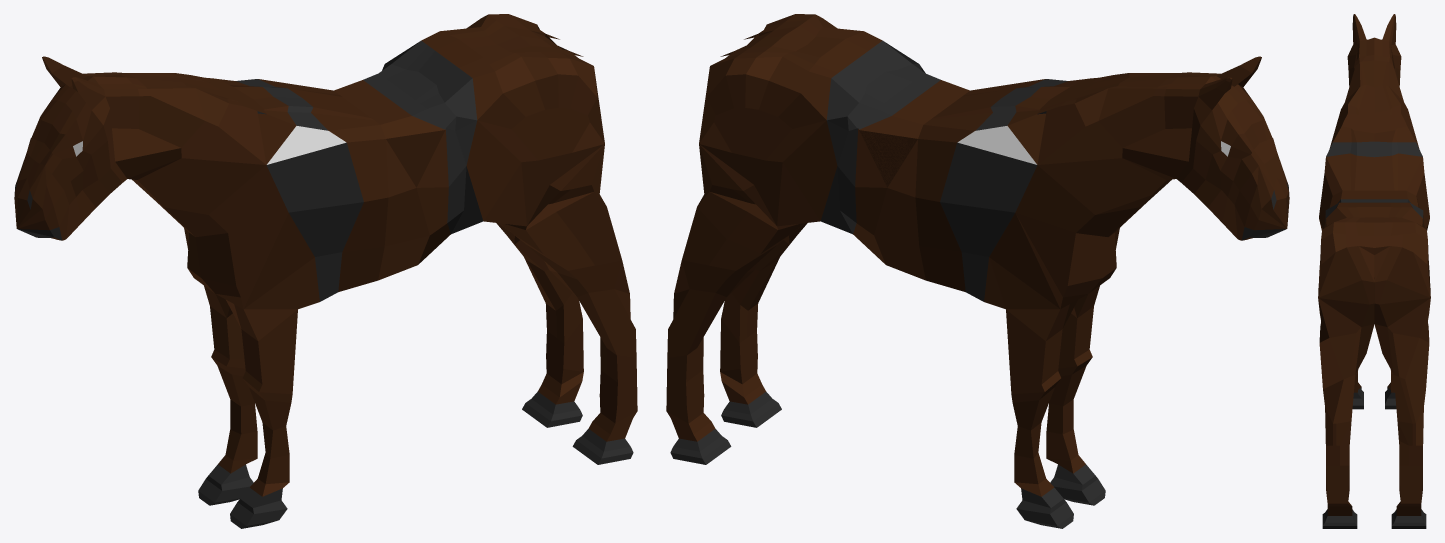
Rendered from aatt.fbx.
3 views of the same model, side by side, from view 1: azimuth 30°, elevation 25°; view 2: azimuth 150°, elevation 25°; view 3: azimuth 270°, elevation 25° (orthographic). The views are drawn at different scales.
Parts seen in each view (by area): view 1: Plane.014; view 2: Plane.014; view 3: Plane.014.
Boxes of the visible parts, bbox=[...] form: Plane.014: bbox=[14, 14, 637, 528]; Plane.014: bbox=[666, 14, 1289, 528]; Plane.014: bbox=[1318, 14, 1430, 528].
Size of the model in its own units: 703 by 568 by 172.
